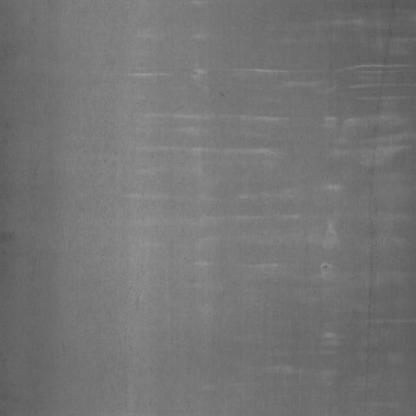waist_folding: (232, 42, 358, 366)
